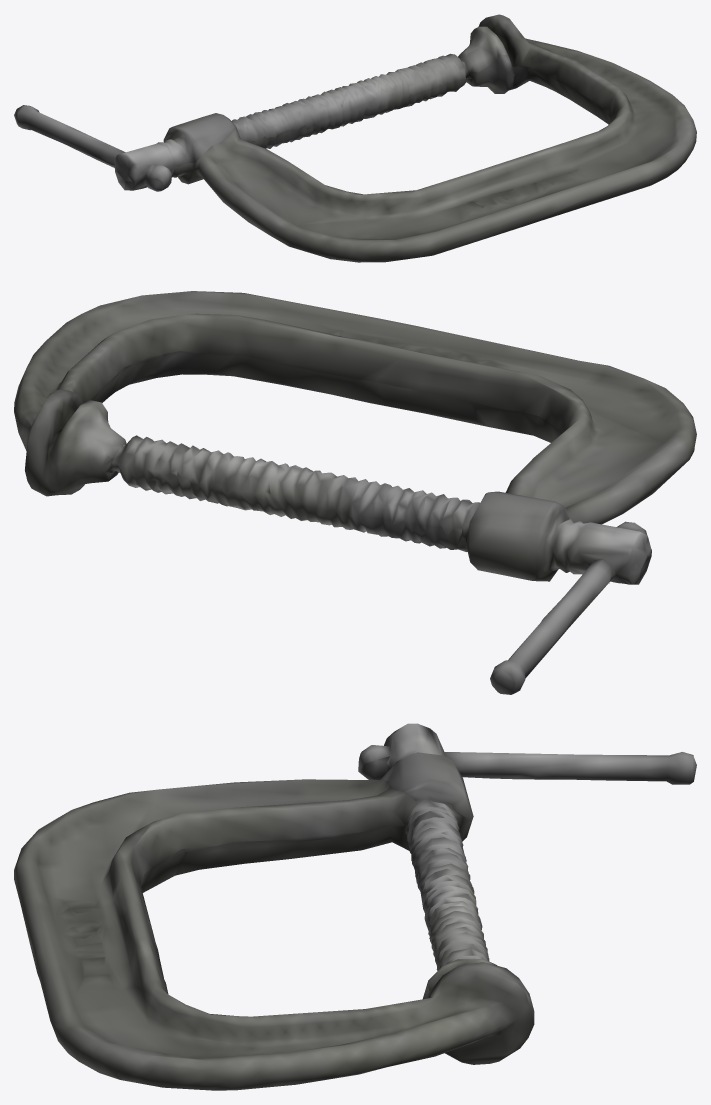
Rendered from Pony_C_Clamp_1440-medium.glb.
3 views of the same model, one above another, from view 1: azimuth 30°, elevation 25°; view 2: azimuth 150°, elevation 25°; view 3: azimuth 270°, elevation 25° (orthographic). The views are drawn at different scales.
Parts seen in each view (by area): view 1: Pony_C_Clamp_1440; view 2: Pony_C_Clamp_1440; view 3: Pony_C_Clamp_1440.
Part boxes in pixels (left/top/right/bottom): Pony_C_Clamp_1440: left=14, top=14, right=696, bottom=262; Pony_C_Clamp_1440: left=14, top=291, right=696, bottom=694; Pony_C_Clamp_1440: left=14, top=723, right=696, bottom=1090.
Size of the model in its own units: 0.2022 by 0.0269 by 0.1728.
Materials: 1 (1 with a texture image).
